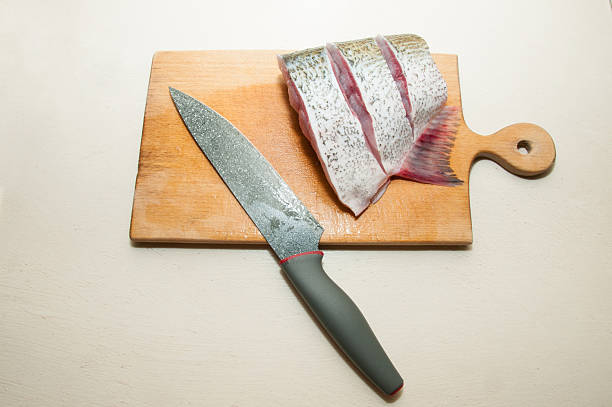knife: (165, 85, 406, 401)
